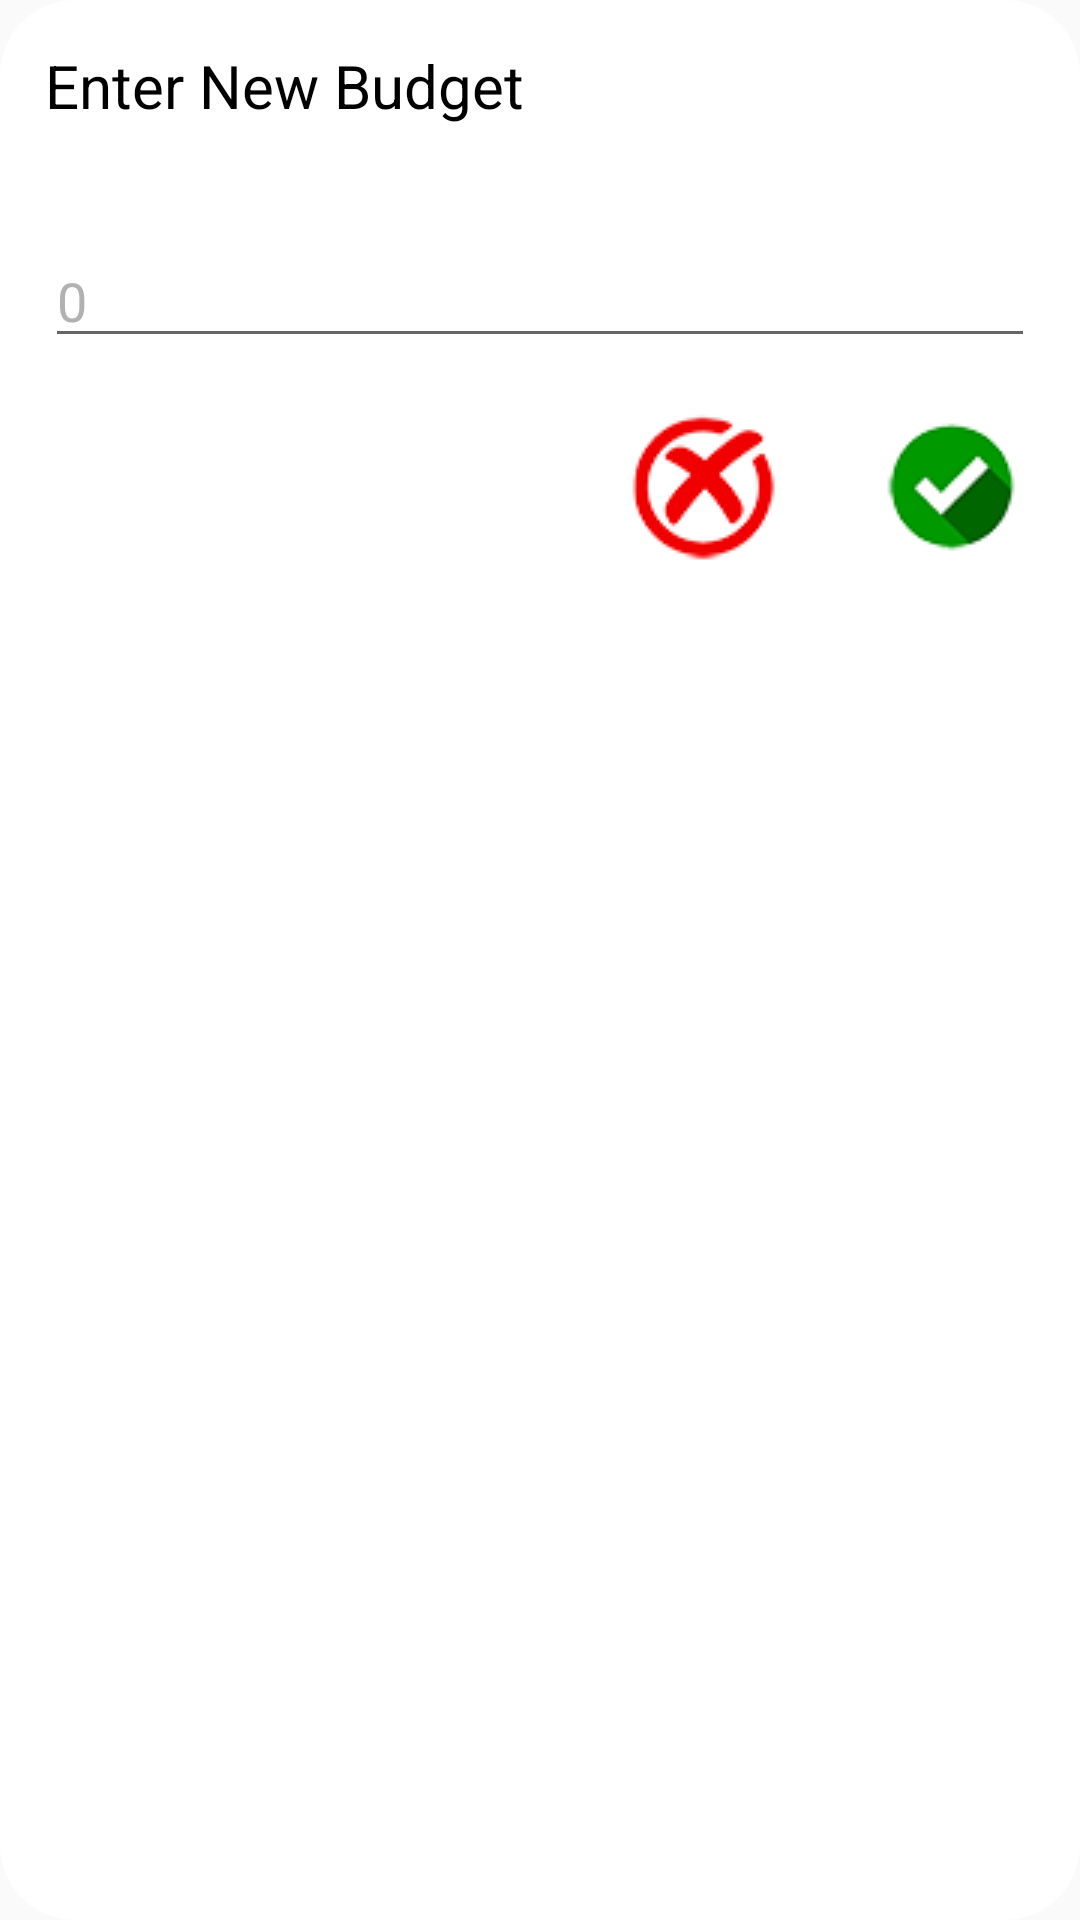

Point at icon controls on the screen. Image size 1080 x 1920, points as (x,y).
cross: (703,488)
tick: (951,487)
